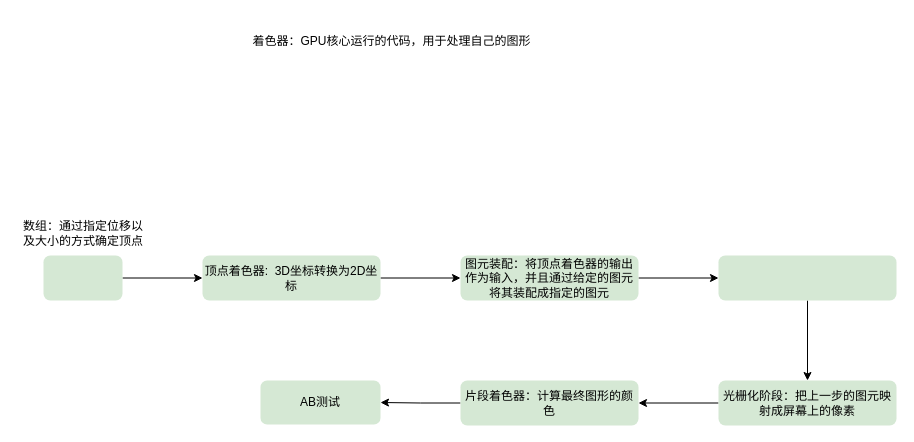
This 914x442 diagram has some shape labels left out. The shapes that lost their labels are listed below. From the top down, each one's centre as x and y in pixels, then its label:
At [82,277]: "顶点数据".
At [807,277]: "图元着色器: 生成新的节点".
